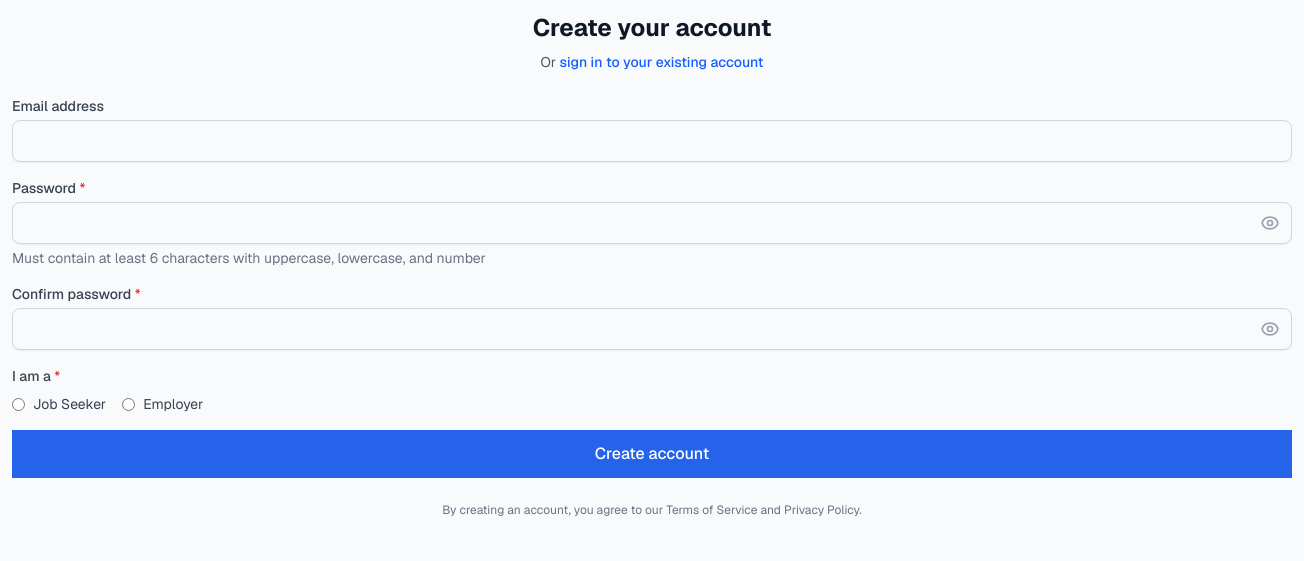
Scenario: Auth Form Components › SignupForm › should validate user type selection
The image size is (1304, 561).
Type "test@example.com" into the field labelled "Email address". click: (652, 141)
box: [12,120,1292,162]
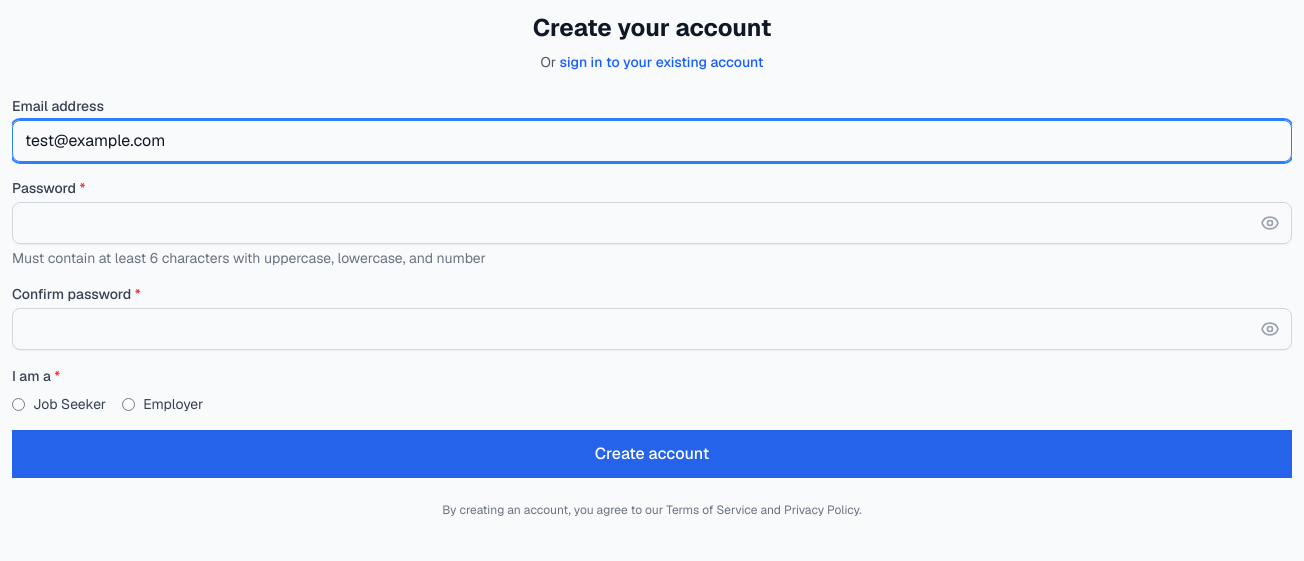
Type "Password123" into the password field labelled "Password *". click: (652, 223)
box: [12,202,1292,244]
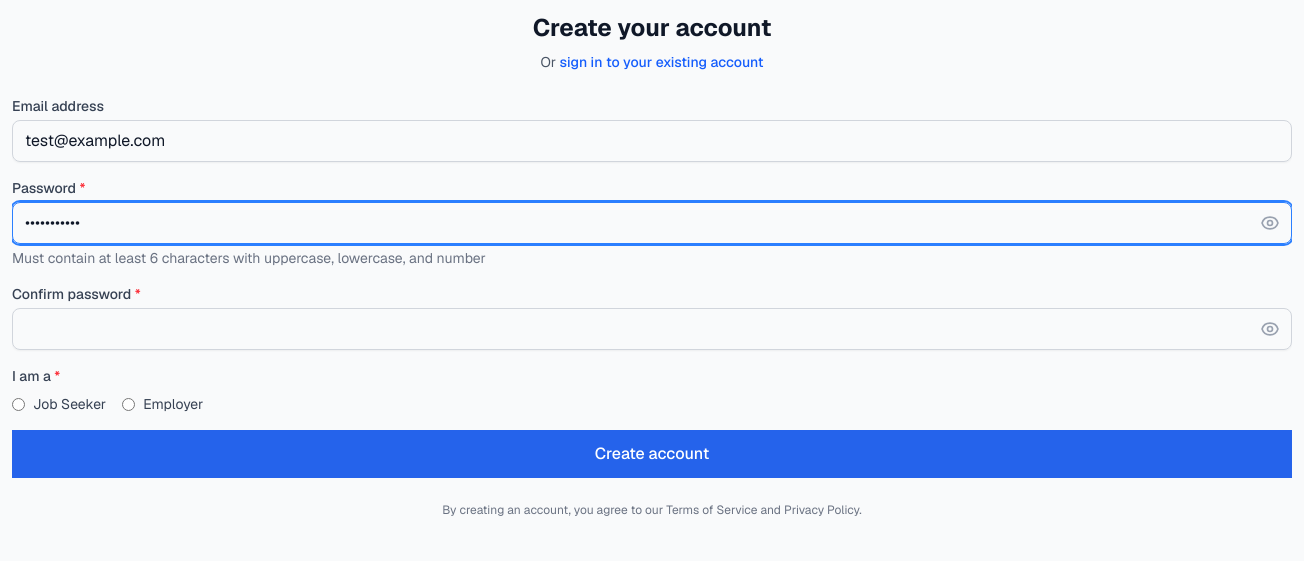
Type "Password123" into the password field labelled "Confirm password *". click: (652, 329)
box: [12,308,1292,350]
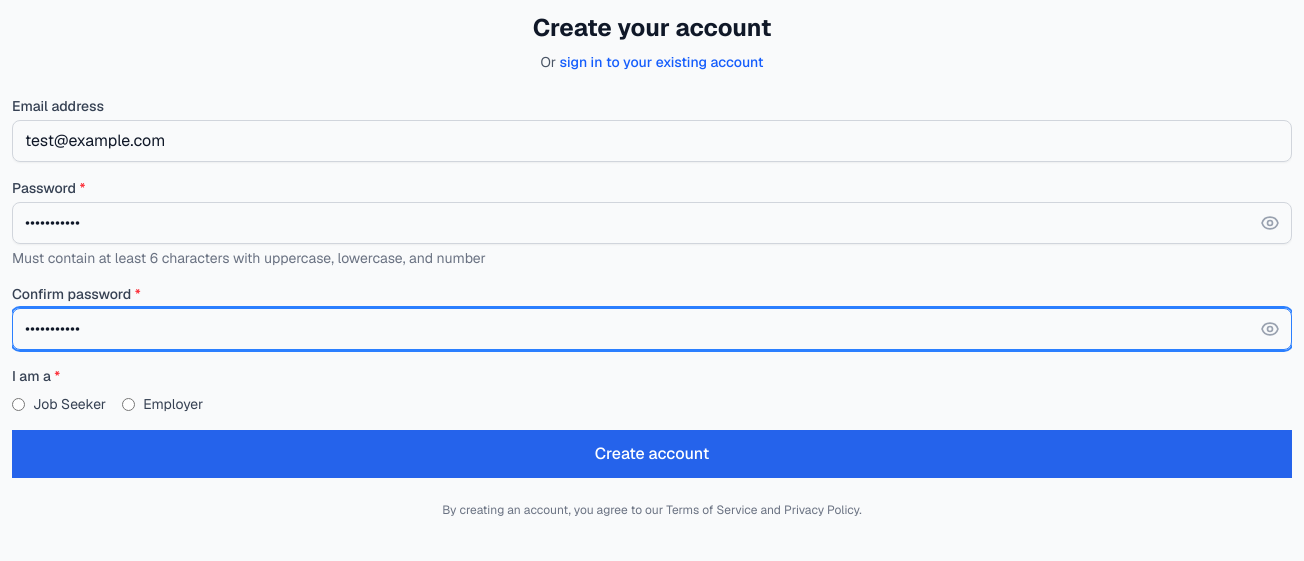
Click the button "Create account". click: (652, 454)
box: [12,430,1292,478]
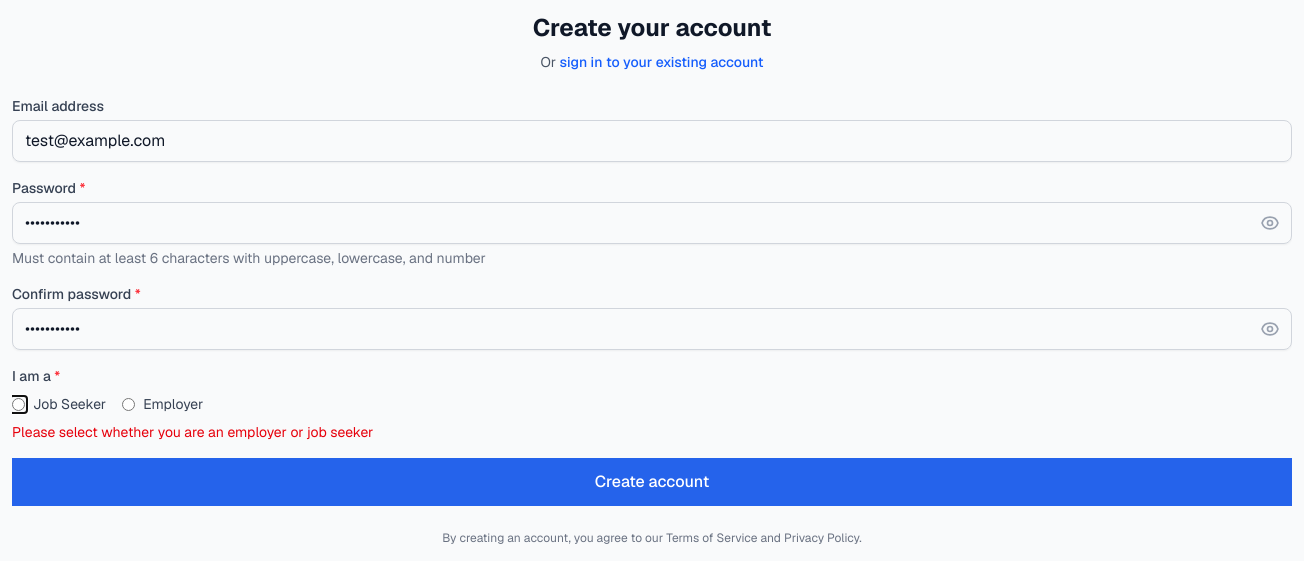
Result: the text "Please select whether you are an employer or job seeker" is shown at [12,423,373,441]
